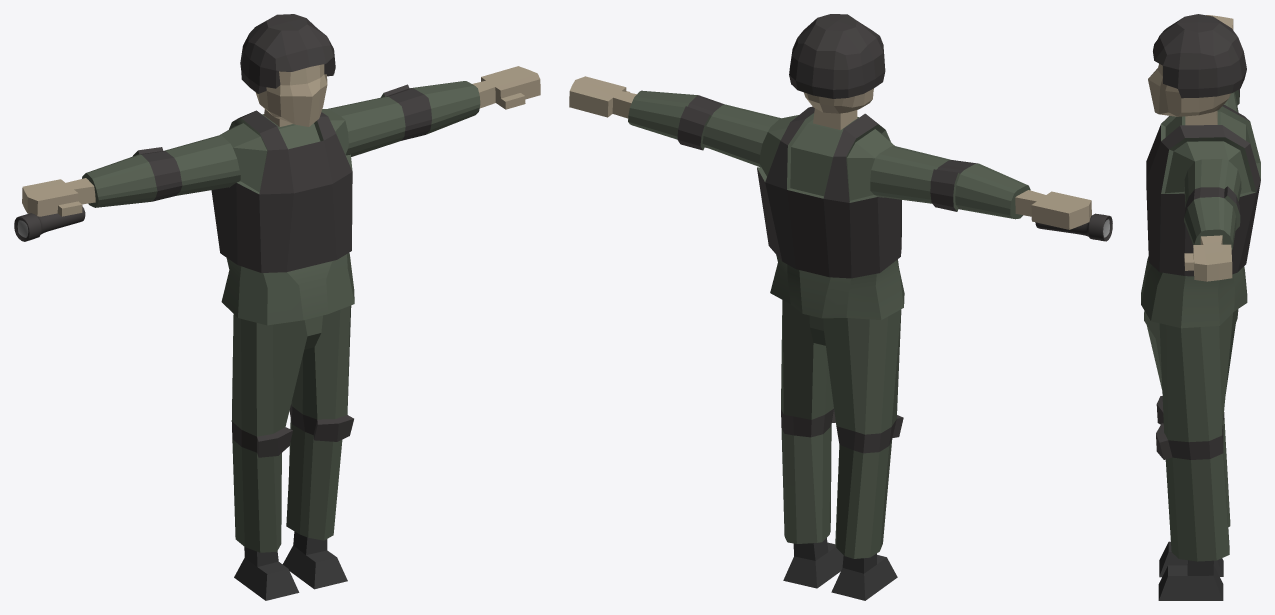
Rendered from Military_dude.fbx.
3 renders of one model, left to right at view 1: azimuth 30°, elevation 25°; view 2: azimuth 150°, elevation 25°; view 3: azimuth 270°, elevation 25°, orthographic.
Visible parts, largest first — view 1: Military_dude; view 2: Military_dude; view 3: Military_dude.
Part boxes in pixels (x1=…): Military_dude: x1=14, y1=14, x2=540, y2=600; Military_dude: x1=569, y1=14, x2=1112, y2=600; Military_dude: x1=1141, y1=14, x2=1260, y2=600.
Bounding box in the file's own units: 185 × 188 × 36.54.
